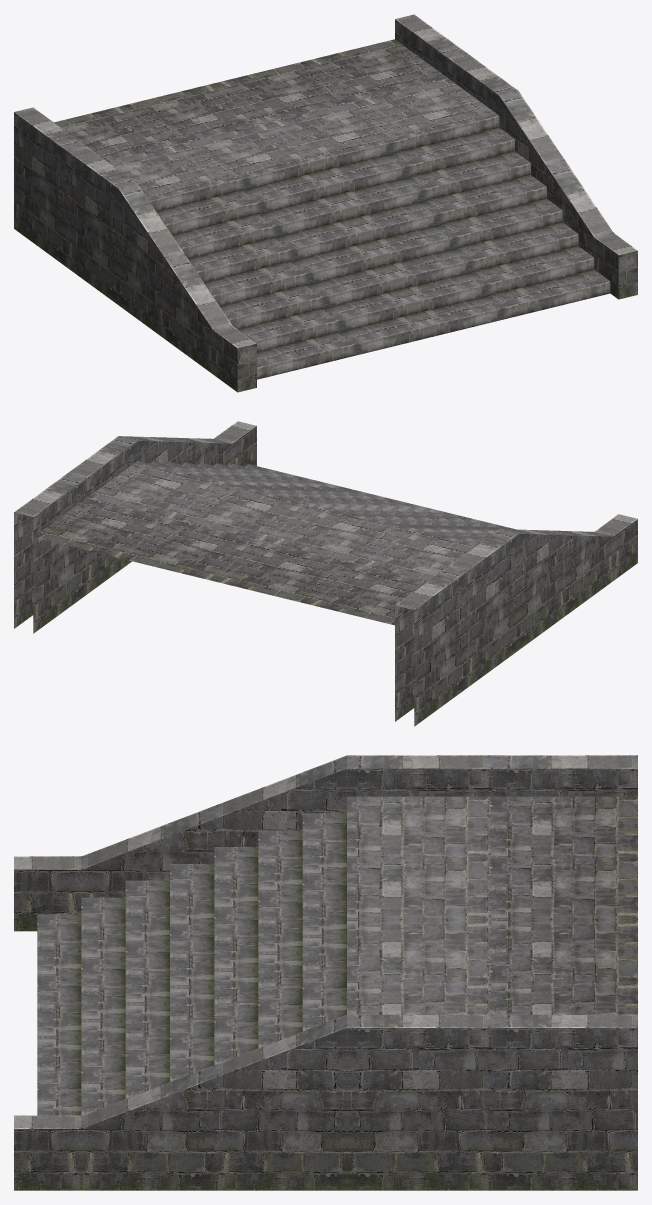
The model's file is CastleBuildingStairs.FBX.
3 renders of one model, top to bottom at view 1: azimuth 30°, elevation 25°; view 2: azimuth 150°, elevation 25°; view 3: azimuth 270°, elevation 25°, orthographic. The views are drawn at different scales.
Visible parts, largest first — view 1: CastleBuildingStairs; view 2: CastleBuildingStairs; view 3: CastleBuildingStairs.
Boxes of the visible parts, left/top/right/bottom form: CastleBuildingStairs: left=14, top=14, right=637, bottom=392; CastleBuildingStairs: left=14, top=421, right=637, bottom=726; CastleBuildingStairs: left=14, top=755, right=637, bottom=1190.
Bounding box in the file's own units: 1087 × 303 × 1052.
